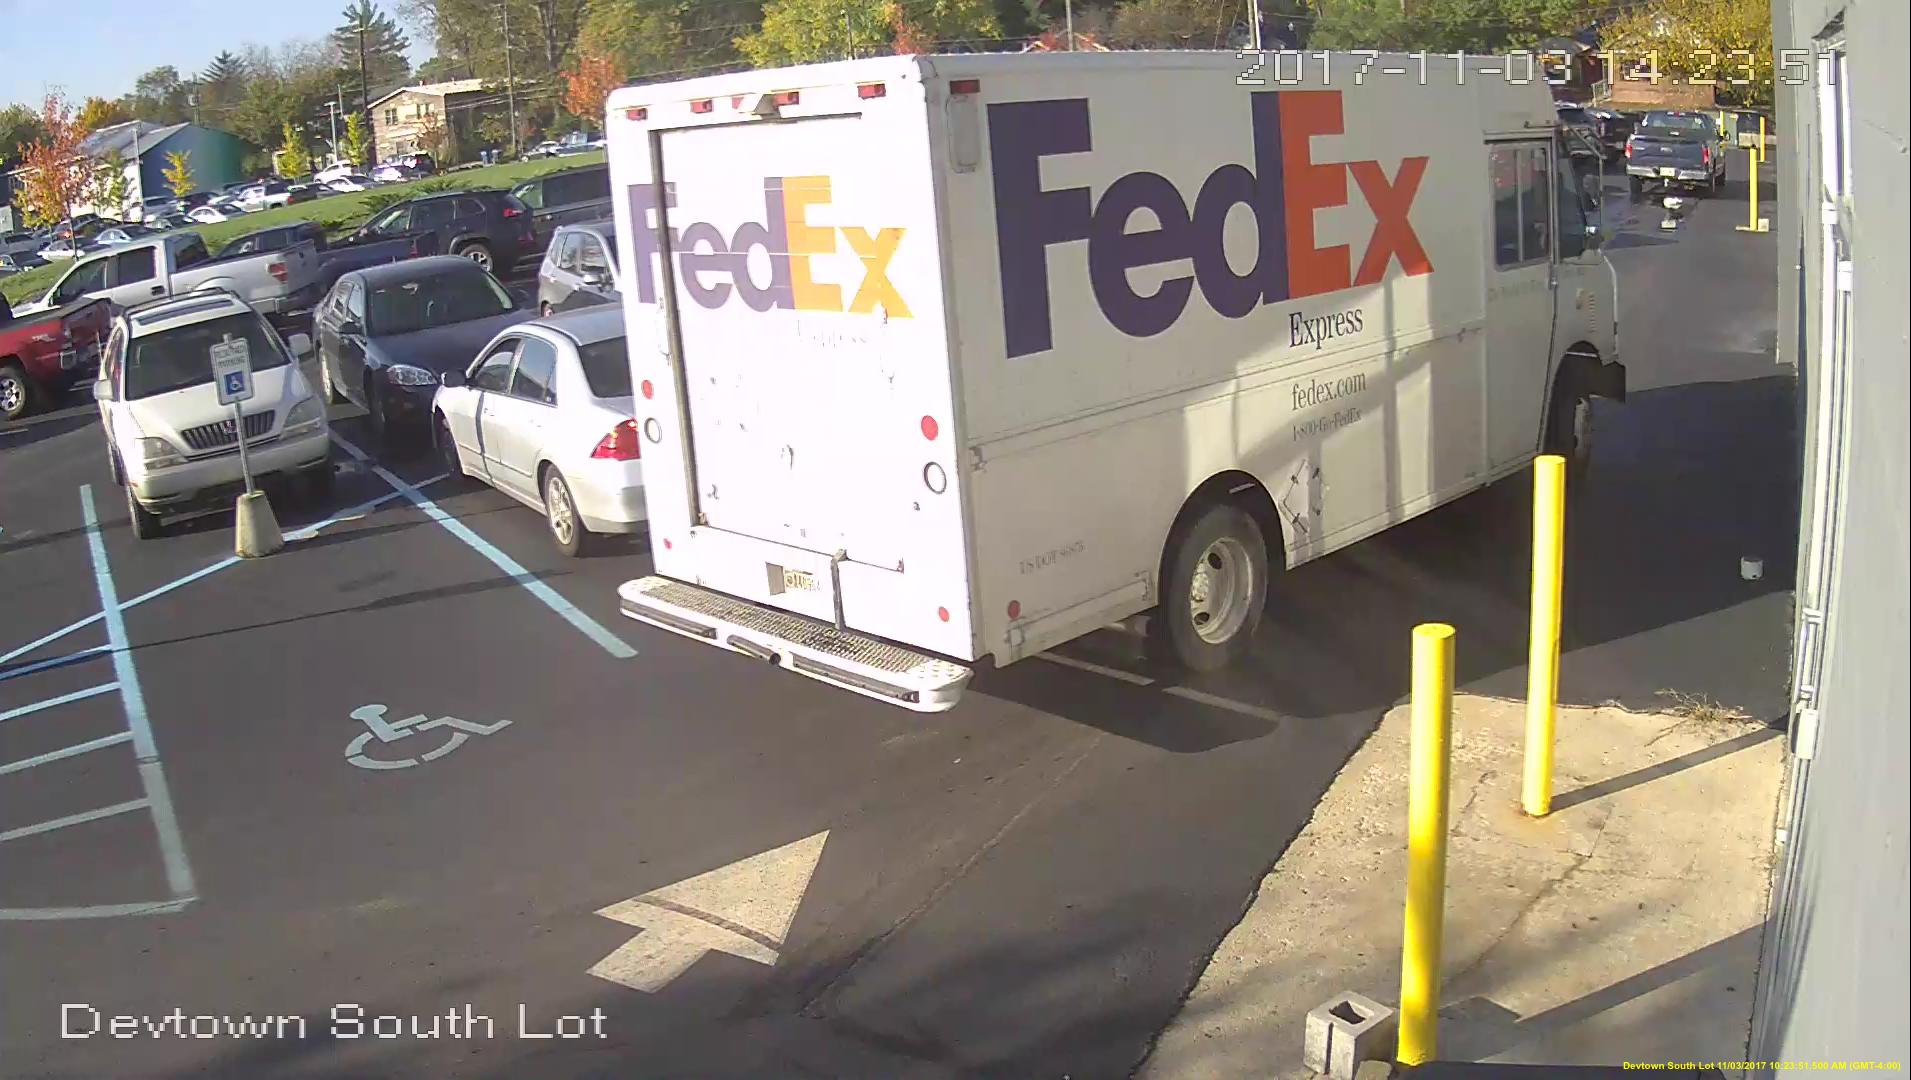fedex_truck: (604, 50, 1639, 719)
